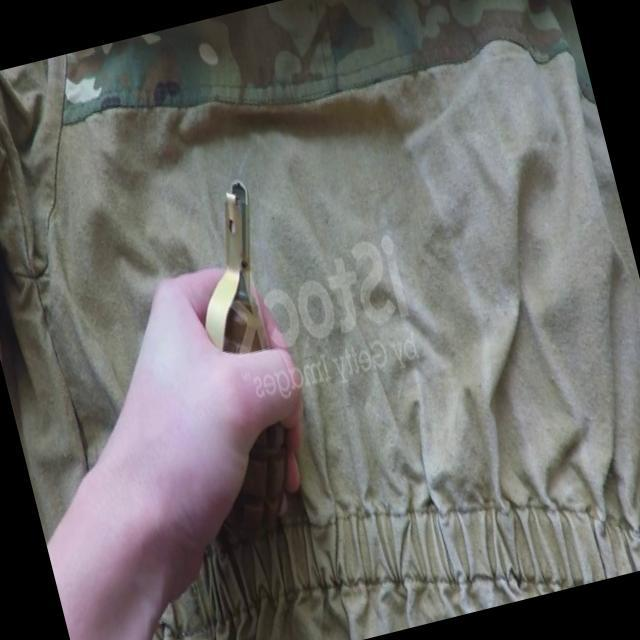grenade: (144, 168, 327, 536)
